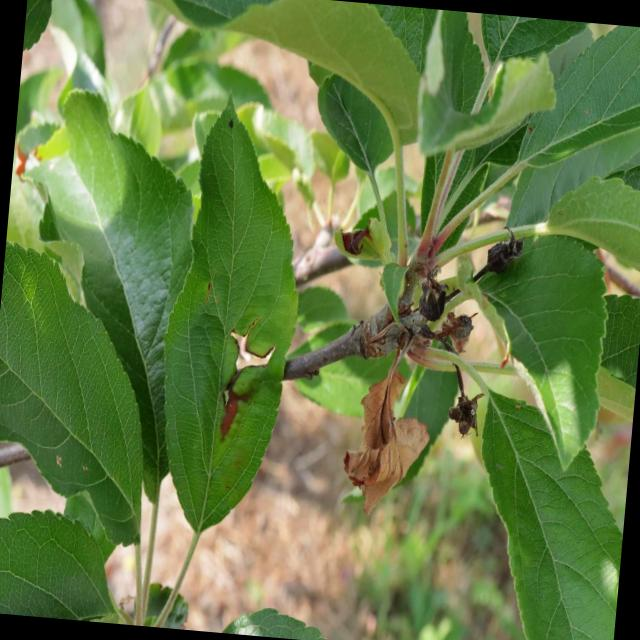-FireBlight-: (342, 334, 428, 514)
